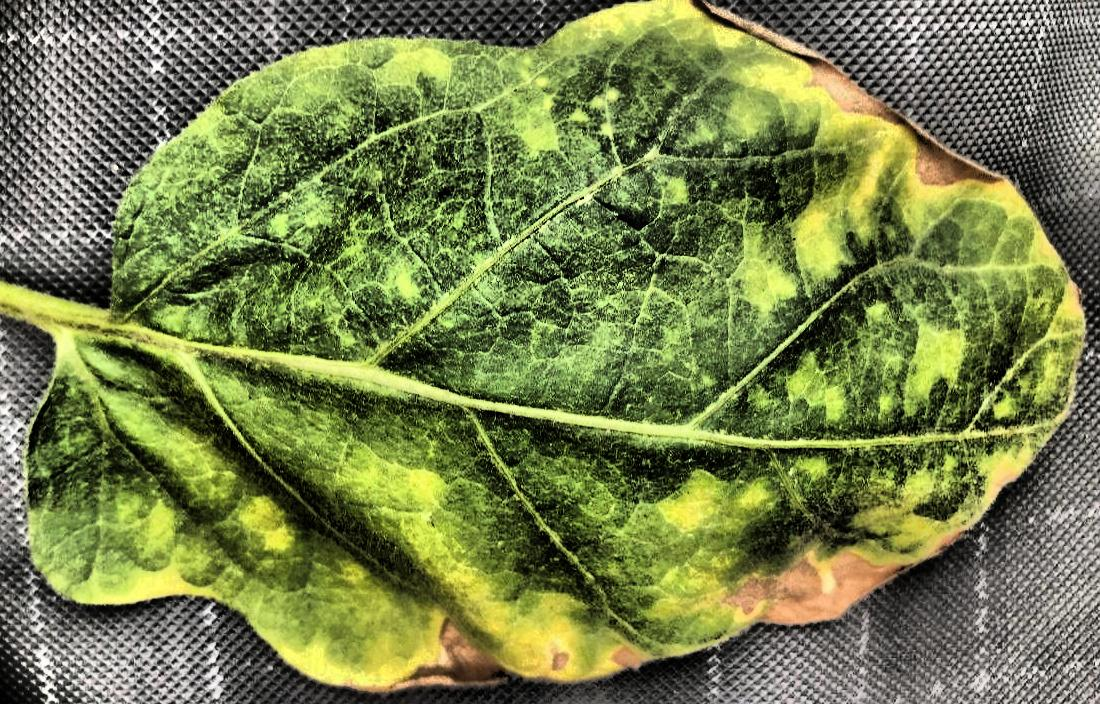Critical Stress: (1, 0, 1100, 704)
